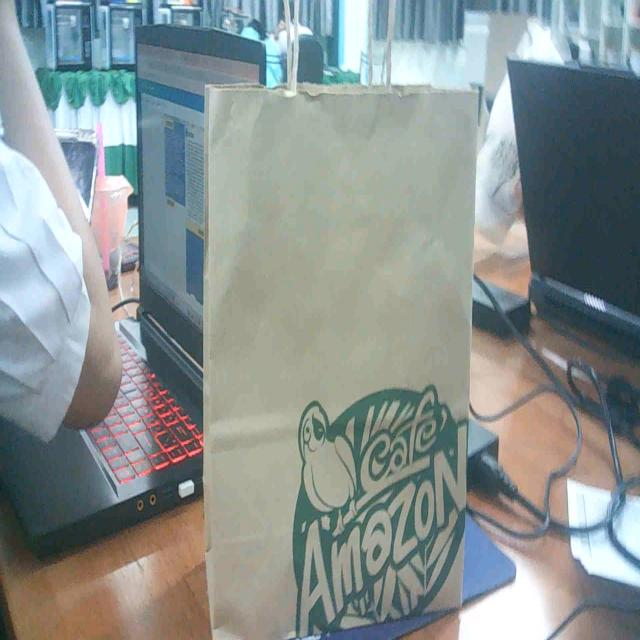bag: (180, 52, 503, 640)
